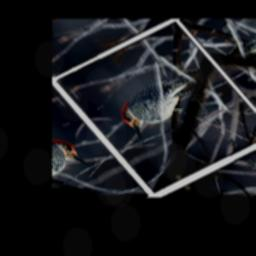Woodpecker: (105, 67, 215, 144)
